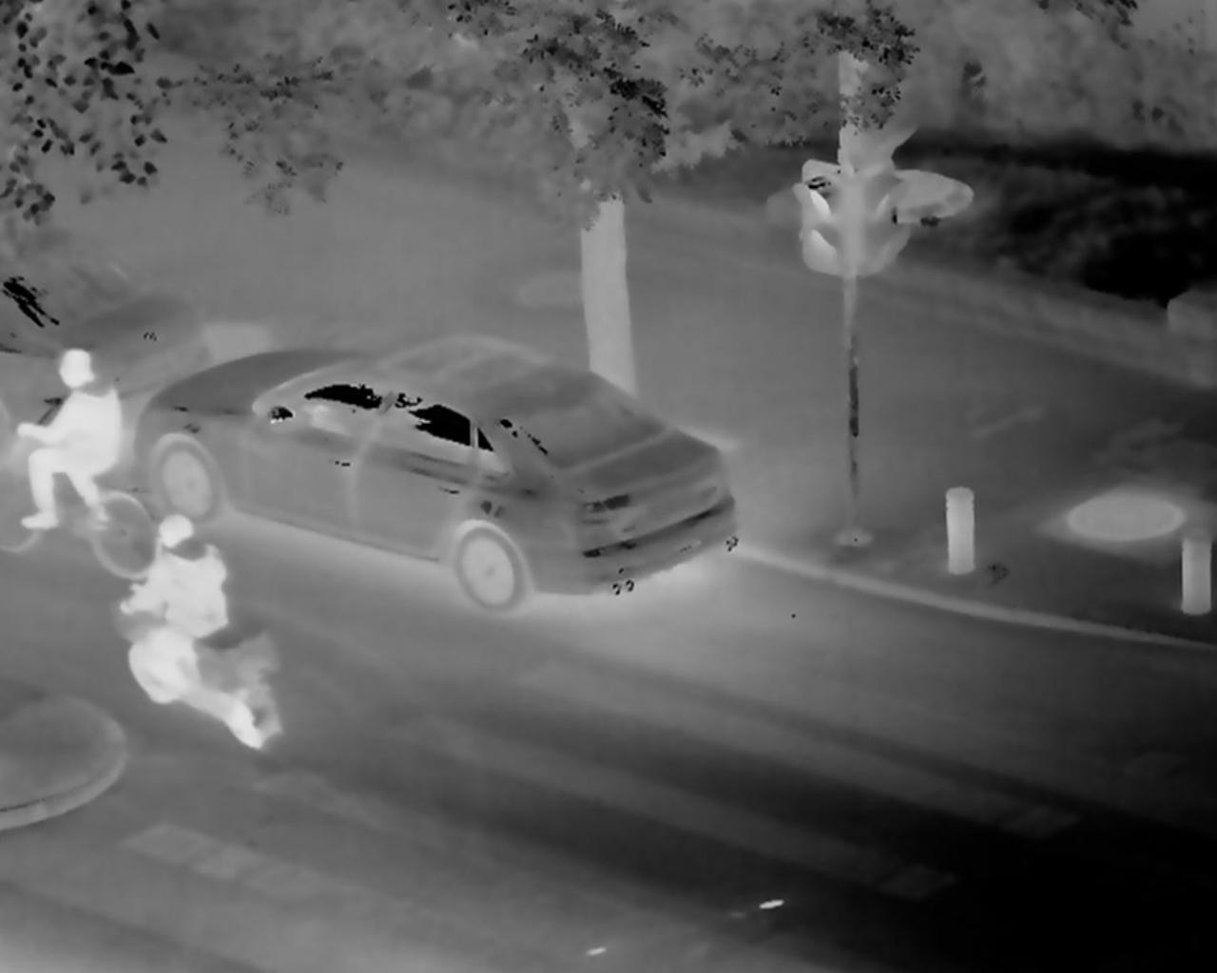person: (12, 339, 126, 544), (128, 515, 240, 709)
